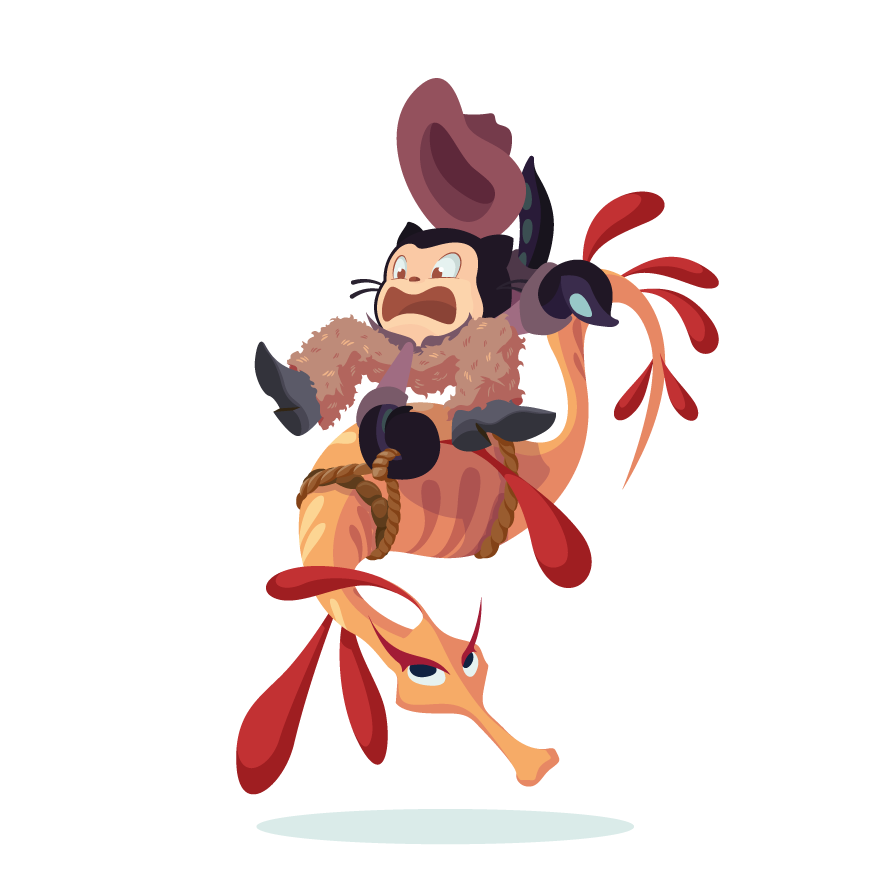rodeotocat: (217, 74, 724, 800)
